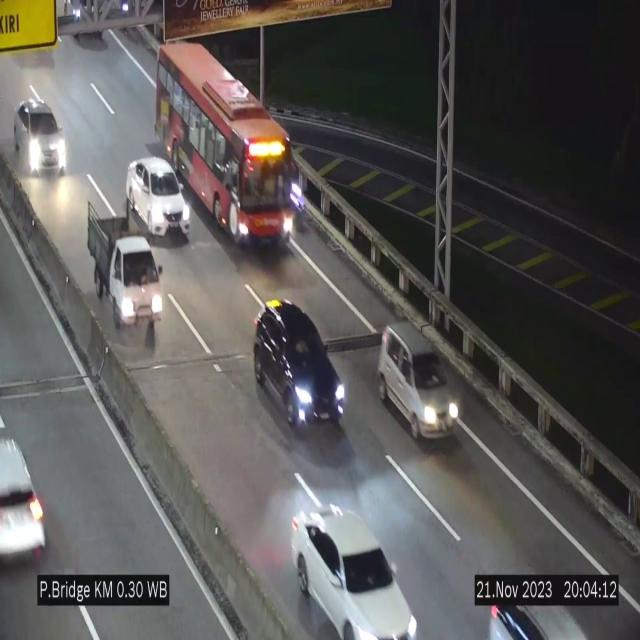Bus: (156, 42, 302, 245)
Car: (292, 508, 416, 638), (250, 298, 346, 436), (378, 320, 460, 448), (0, 424, 52, 580), (484, 572, 589, 640), (126, 158, 190, 238), (13, 100, 68, 178)
Truck: (84, 201, 164, 334)
